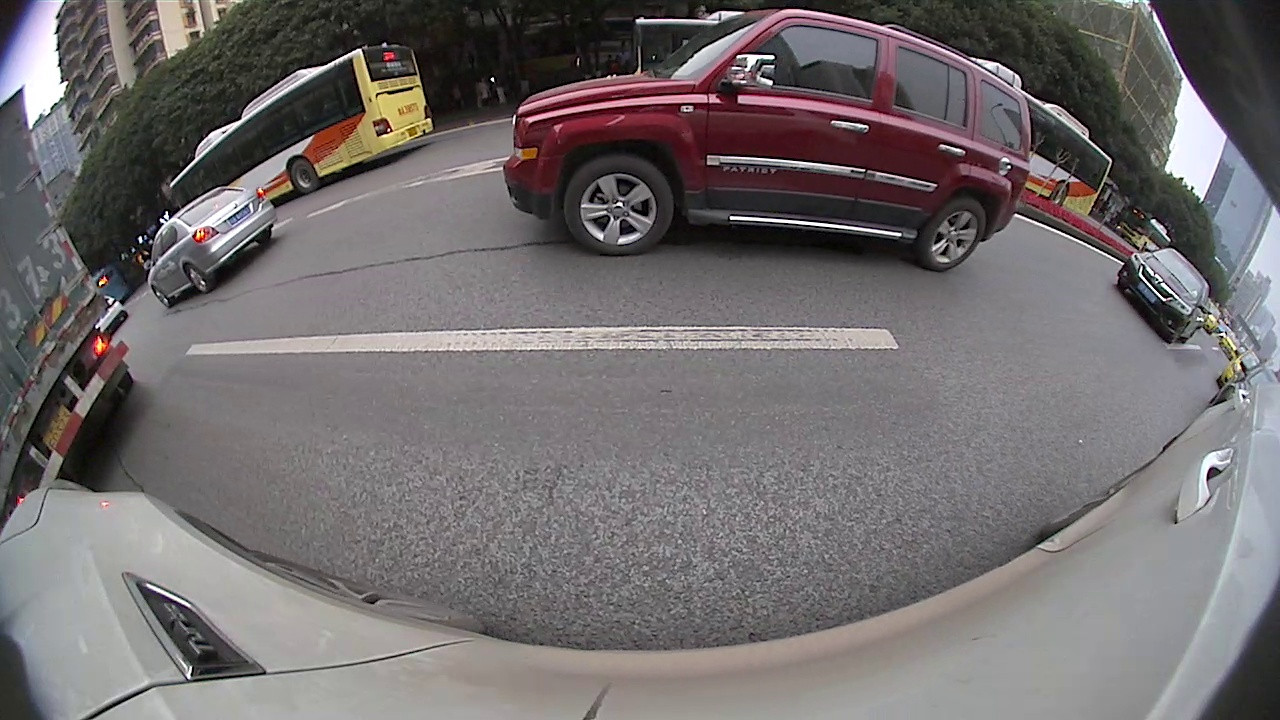bus: (169, 44, 434, 209), (1018, 91, 1114, 219), (633, 13, 743, 71), (1121, 204, 1174, 254)
car: (506, 9, 1032, 277), (143, 186, 280, 308), (1117, 244, 1211, 341)
front: (562, 148, 674, 258), (150, 287, 172, 307)
rear: (923, 191, 979, 266), (283, 158, 320, 194), (183, 265, 211, 294), (1051, 179, 1066, 205)
truck: (2, 89, 130, 510)
